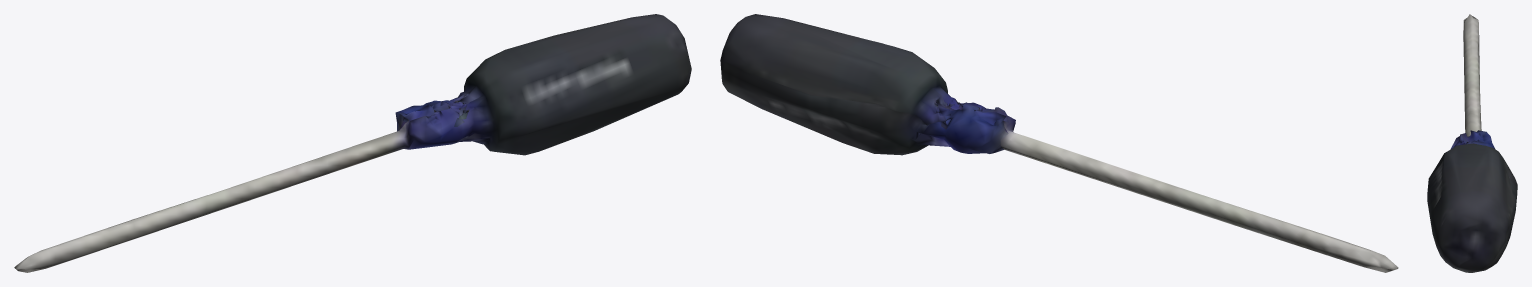
The model's file is Craftsman_Grip_Screwdriver_Phillips_Cushion-medium.glb.
3 views of the same model, side by side, from view 1: azimuth 30°, elevation 25°; view 2: azimuth 150°, elevation 25°; view 3: azimuth 270°, elevation 25° (orthographic). The views are drawn at different scales.
Visible parts, largest first — view 1: Craftsman_Grip_Screwdriver_Phillips_Cushion; view 2: Craftsman_Grip_Screwdriver_Phillips_Cushion; view 3: Craftsman_Grip_Screwdriver_Phillips_Cushion.
Boxes of the visible parts, x1,y1,x2,y2 form: Craftsman_Grip_Screwdriver_Phillips_Cushion: [14, 14, 691, 272]; Craftsman_Grip_Screwdriver_Phillips_Cushion: [720, 14, 1398, 272]; Craftsman_Grip_Screwdriver_Phillips_Cushion: [1427, 14, 1517, 272].
Size of the model in its own units: 0.2604 by 0.0377 by 0.0359.
1 material, 1 textured.
